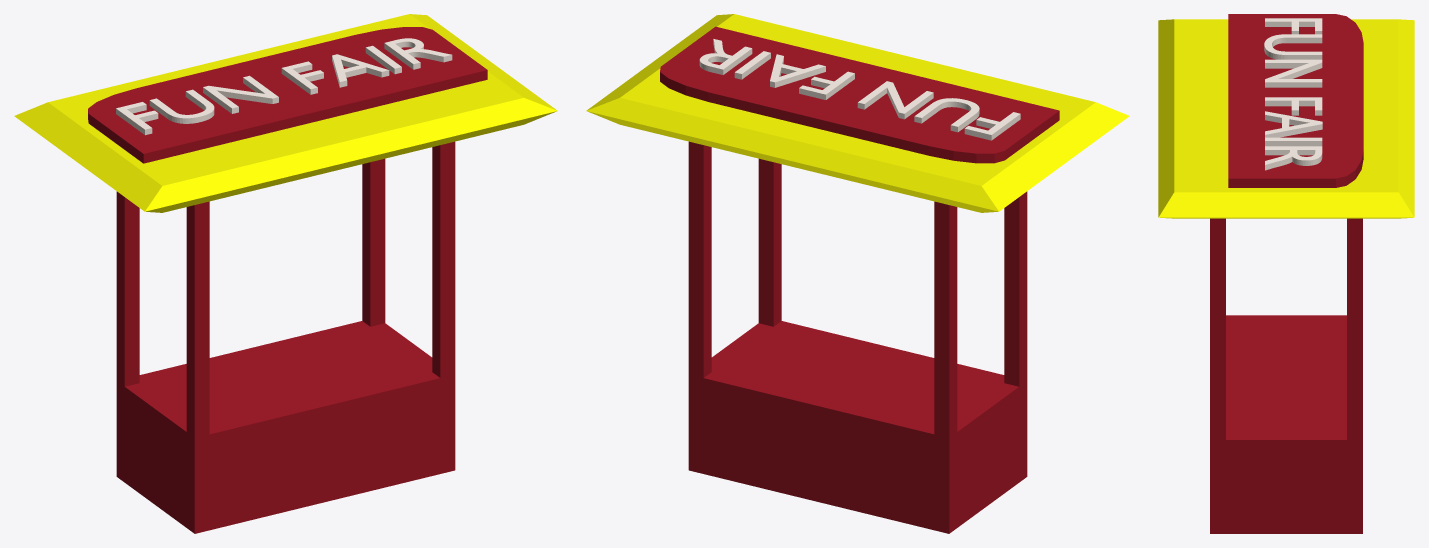
Rendered from Sign.fbx.
3 views of the same model, side by side, from view 1: azimuth 30°, elevation 25°; view 2: azimuth 150°, elevation 25°; view 3: azimuth 270°, elevation 25° (orthographic). The views are drawn at different scales.
Visible parts, largest first — view 1: Text; view 2: Text; view 3: Text.
Part boxes in pixels (bbox=[...]): Text: bbox=[14, 14, 557, 533]; Text: bbox=[586, 14, 1129, 533]; Text: bbox=[1158, 14, 1414, 533].
Size of the model in its own units: 176 by 158 by 96.34.
Materials: 1 (1 with a texture image).
